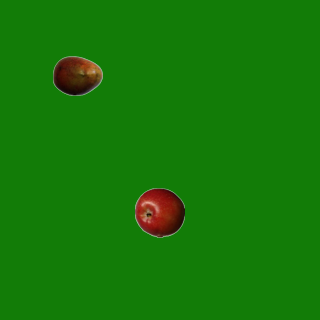Apple Braeburn: (134, 187, 184, 237)
Mango Red: (52, 50, 102, 100)
